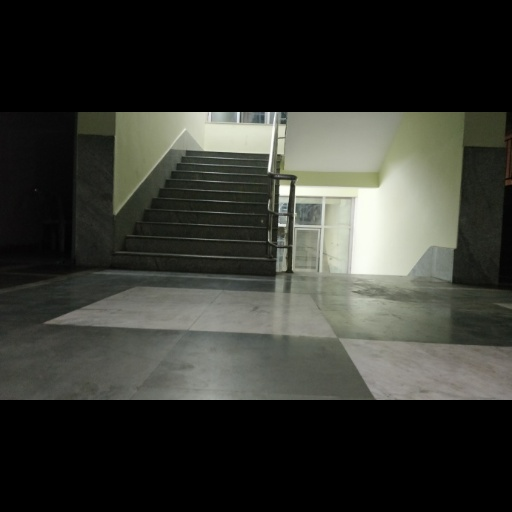Stairs: (112, 151, 275, 275)
